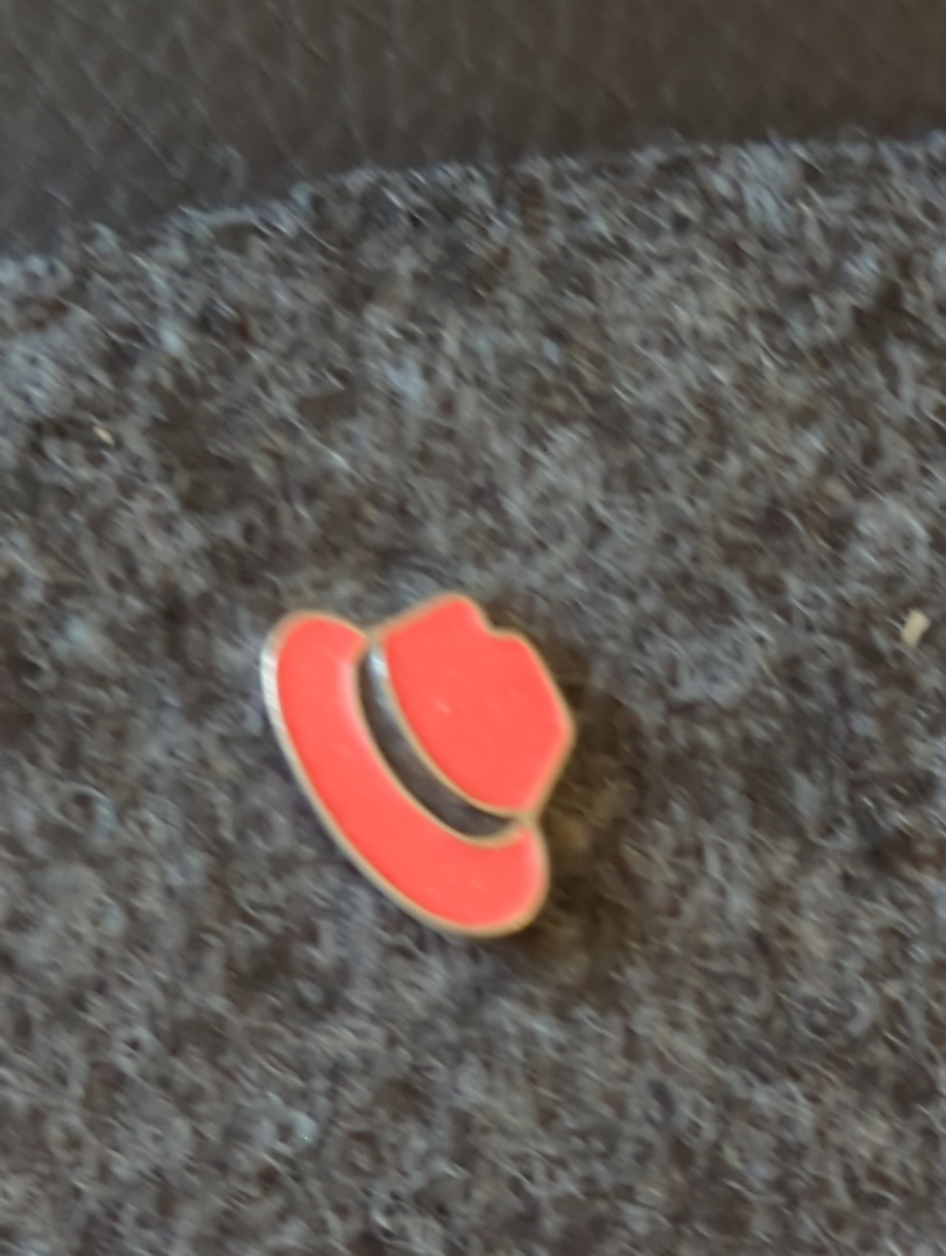Red-Hat: (159, 443, 789, 1100)
